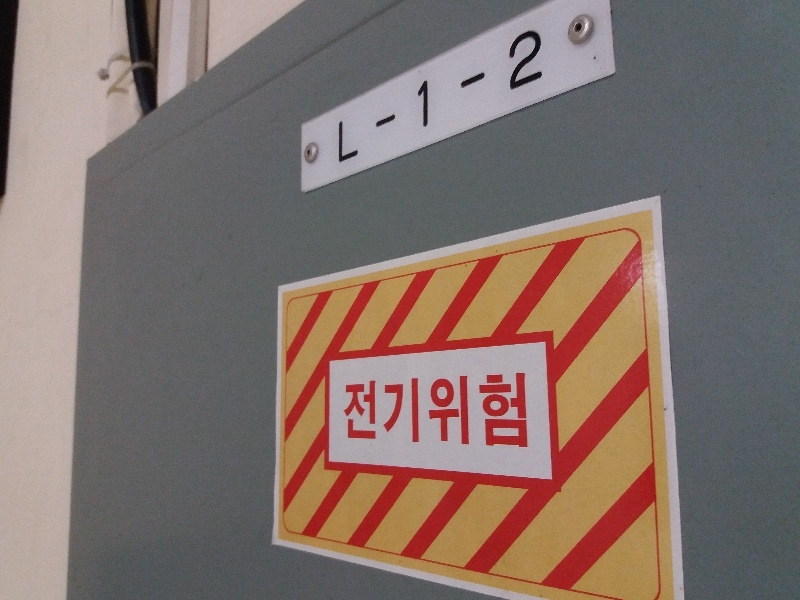text: (529, 24, 545, 169), (337, 24, 352, 169), (353, 24, 368, 169), (369, 24, 384, 169), (385, 24, 400, 169), (401, 24, 416, 169), (417, 24, 432, 169), (433, 24, 448, 169), (449, 24, 464, 169), (465, 24, 480, 169), (481, 24, 496, 169), (497, 24, 512, 169), (513, 24, 528, 169), (513, 370, 529, 451), (353, 370, 368, 451), (369, 370, 384, 451), (385, 370, 400, 451), (401, 370, 416, 451), (417, 370, 432, 451), (433, 370, 448, 451), (449, 370, 464, 451), (465, 370, 480, 451), (481, 370, 496, 451), (497, 370, 512, 451), (344, 370, 352, 451), (335, 24, 336, 169)
